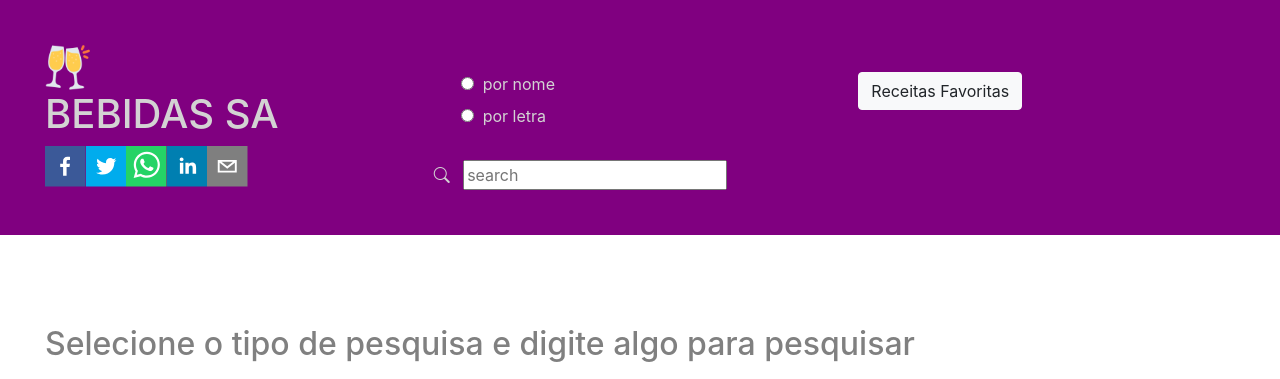
Test: render back button
Click the button "Receitas Favoritas".
click(940, 91)  # box top-left (858, 72), bottom-right (1022, 110)
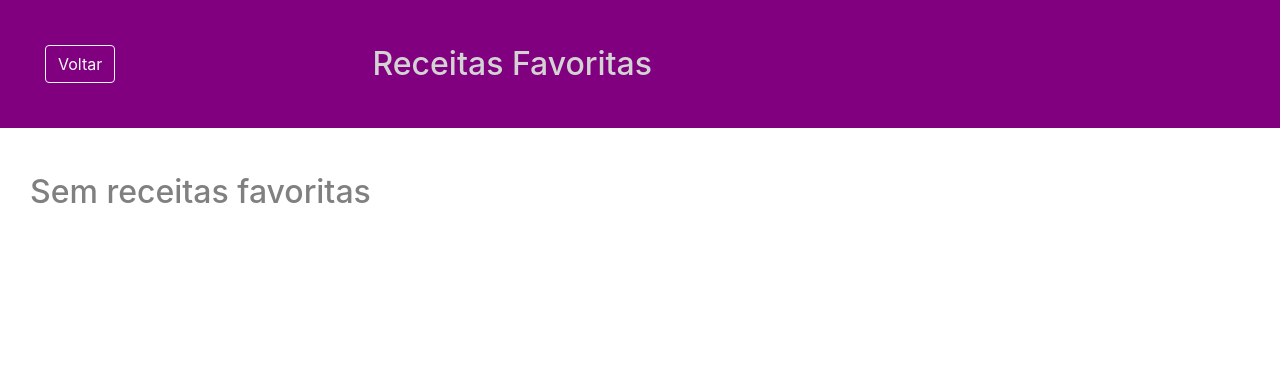
expect the button "Voltar" is shown: met, box top-left (45, 45), bottom-right (115, 83)
